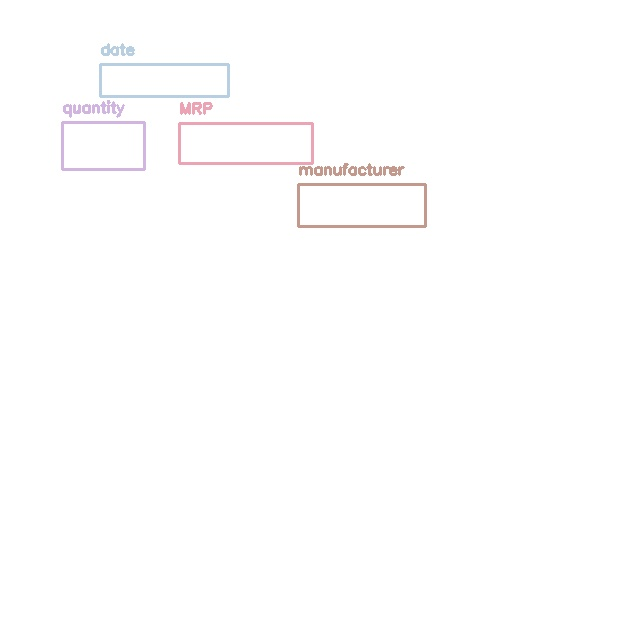MRP: (179, 123, 312, 163)
date: (100, 64, 228, 96)
manufacturer: (298, 184, 425, 226)
quantity: (62, 122, 144, 169)
